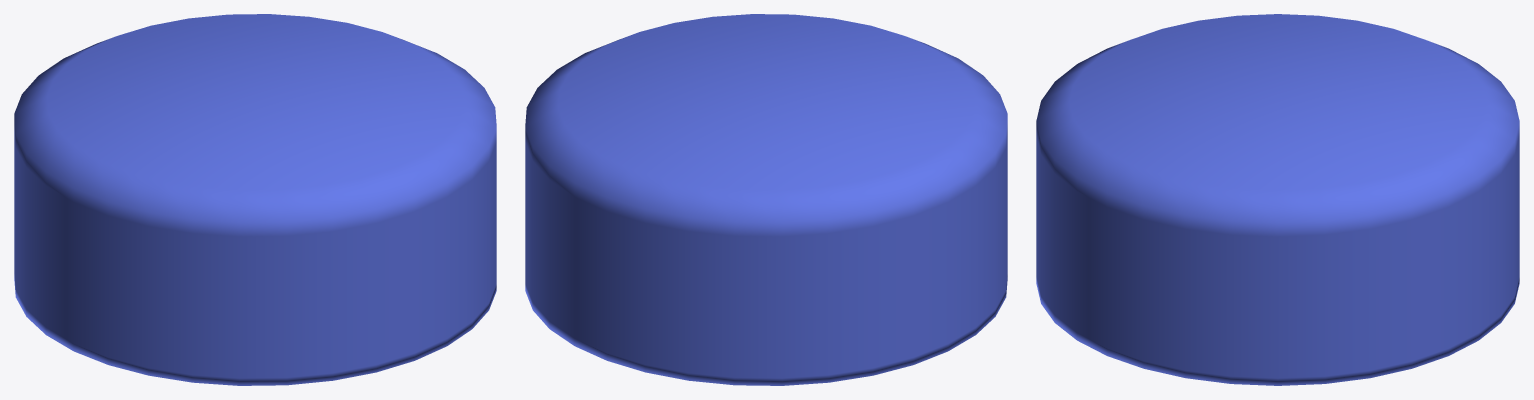
Rendered from TAPON.fbx.
3 renders of one model, left to right at view 1: azimuth 30°, elevation 25°; view 2: azimuth 150°, elevation 25°; view 3: azimuth 270°, elevation 25°, orthographic.
Visible parts, largest first — view 1: TAPON; view 2: TAPON; view 3: TAPON.
Boxes of the visible parts, bbox=[...] form: TAPON: bbox=[14, 14, 496, 385]; TAPON: bbox=[525, 14, 1007, 385]; TAPON: bbox=[1036, 14, 1519, 385].
Size of the model in its own units: 200 by 83.03 by 200.
